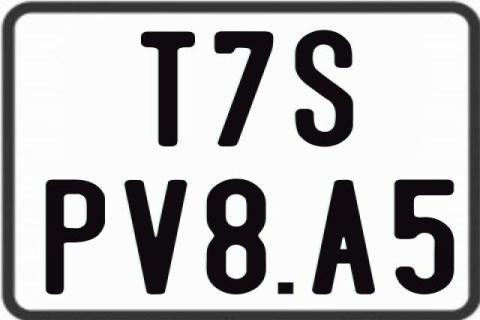0: (212, 31, 276, 148), (394, 179, 455, 296), (203, 176, 263, 294)
A: (311, 178, 379, 296)
P: (44, 178, 103, 296)
S: (293, 29, 351, 148)
T: (140, 31, 199, 150)
V: (123, 180, 186, 295)
